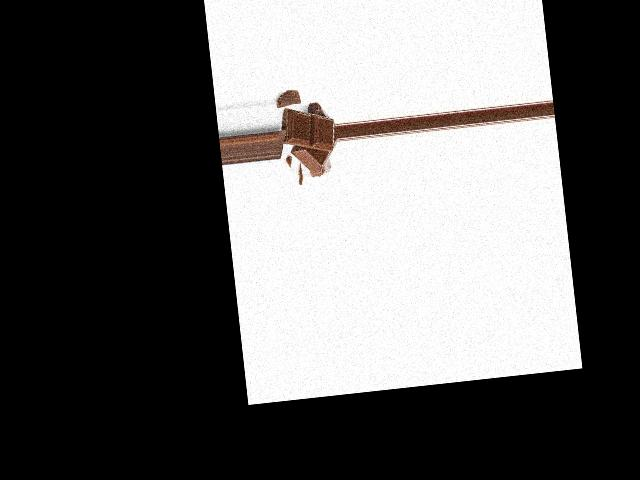chocolate: (281, 105, 335, 156)
